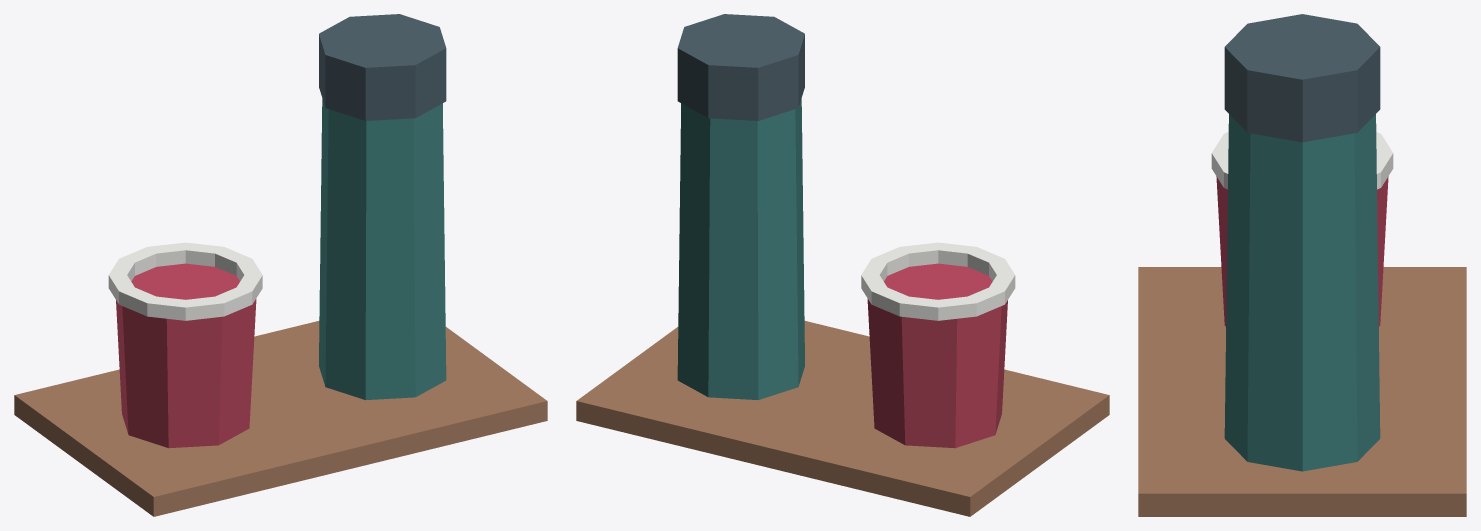
File: winter-hearth-village-cocoa-and-thermos-tray-5d9ebefe__21852.glb
3 renders of one model, left to right at view 1: azimuth 30°, elevation 25°; view 2: azimuth 150°, elevation 25°; view 3: azimuth 270°, elevation 25°, orthographic. The views are drawn at different scales.
Parts seen in each view (by area): view 1: cocoa-and-thermos-tray-wood, cocoa-and-thermos-tray-spruce, cocoa-and-thermos-tray-red, cocoa-and-thermos-tray-iron, cocoa-and-thermos-tray-snow; view 2: cocoa-and-thermos-tray-wood, cocoa-and-thermos-tray-spruce, cocoa-and-thermos-tray-red, cocoa-and-thermos-tray-iron, cocoa-and-thermos-tray-snow; view 3: cocoa-and-thermos-tray-wood, cocoa-and-thermos-tray-spruce, cocoa-and-thermos-tray-iron, cocoa-and-thermos-tray-red, cocoa-and-thermos-tray-snow.
Boxes of the visible parts, left/top/right/bottom form: cocoa-and-thermos-tray-wood: left=14, top=321, right=547, bottom=516; cocoa-and-thermos-tray-spruce: left=319, top=99, right=446, bottom=400; cocoa-and-thermos-tray-red: left=116, top=263, right=256, bottom=448; cocoa-and-thermos-tray-iron: left=319, top=14, right=446, bottom=120; cocoa-and-thermos-tray-snow: left=108, top=242, right=262, bottom=320; cocoa-and-thermos-tray-wood: left=576, top=321, right=1109, bottom=516; cocoa-and-thermos-tray-spruce: left=677, top=99, right=804, bottom=400; cocoa-and-thermos-tray-red: left=867, top=263, right=1007, bottom=448; cocoa-and-thermos-tray-iron: left=677, top=14, right=804, bottom=120; cocoa-and-thermos-tray-snow: left=861, top=242, right=1015, bottom=320; cocoa-and-thermos-tray-wood: left=1138, top=267, right=1466, bottom=516; cocoa-and-thermos-tray-spruce: left=1224, top=114, right=1380, bottom=471; cocoa-and-thermos-tray-iron: left=1224, top=14, right=1380, bottom=142; cocoa-and-thermos-tray-red: left=1216, top=176, right=1388, bottom=326; cocoa-and-thermos-tray-snow: left=1211, top=132, right=1393, bottom=189.
Size of the model in its own units: 0.62 by 0.53 by 0.38.
